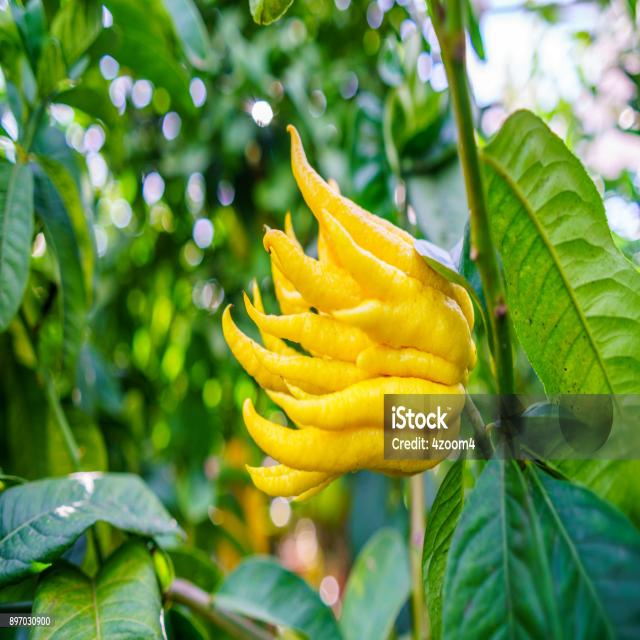PhatThu: (219, 118, 479, 509)
